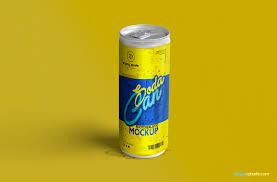Aluminum can: (112, 15, 173, 169)
